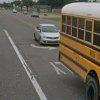Bus: (58, 2, 100, 86)
